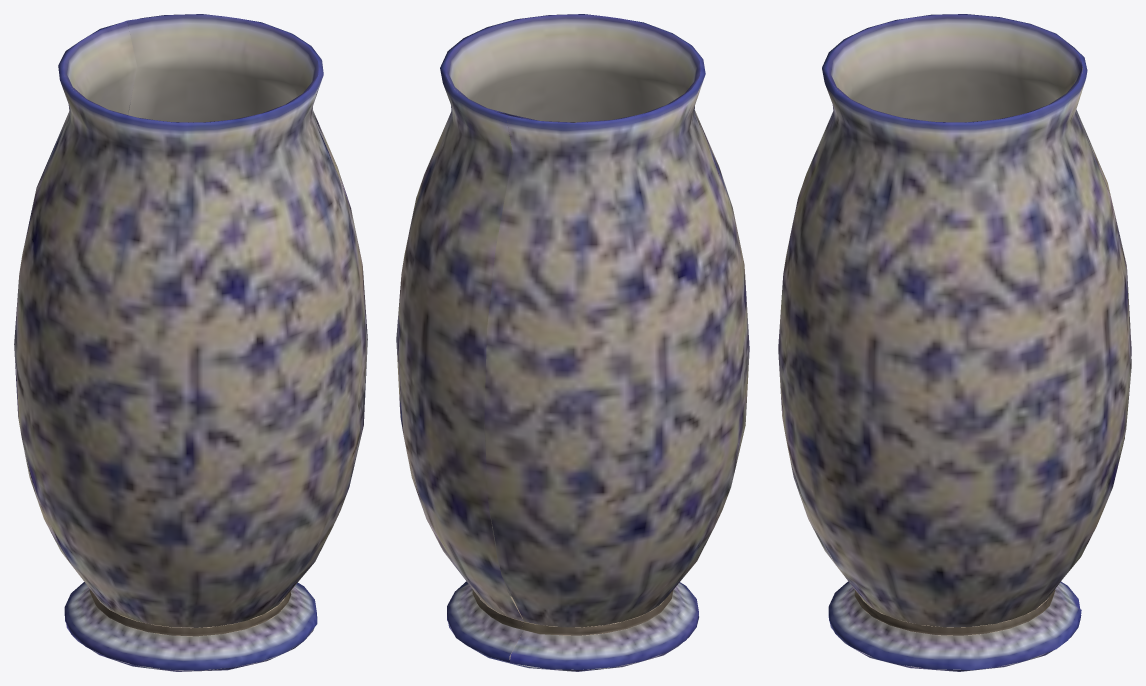
Rendered from antique_ceramic_vase_01.gltf.
The picture shows the model from 3 angles, left to right: view 1: azimuth 30°, elevation 25°; view 2: azimuth 150°, elevation 25°; view 3: azimuth 270°, elevation 25°; orthographic projection.
Parts seen in each view (by area): view 1: antique_ceramic_vase_01; view 2: antique_ceramic_vase_01; view 3: antique_ceramic_vase_01.
Boxes of the visible parts, x1,y1,x2,y2 form: antique_ceramic_vase_01: [14, 14, 367, 671]; antique_ceramic_vase_01: [396, 14, 749, 671]; antique_ceramic_vase_01: [778, 14, 1131, 671].
Bounding box in the file's own units: 0.2554 × 0.4408 × 0.2556.
1 material, 1 textured.
